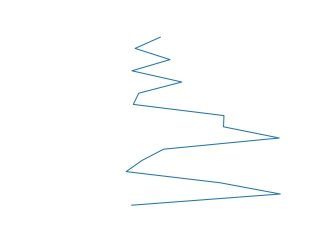majorRiverBedLagDeposit: (122, 35, 284, 209)
